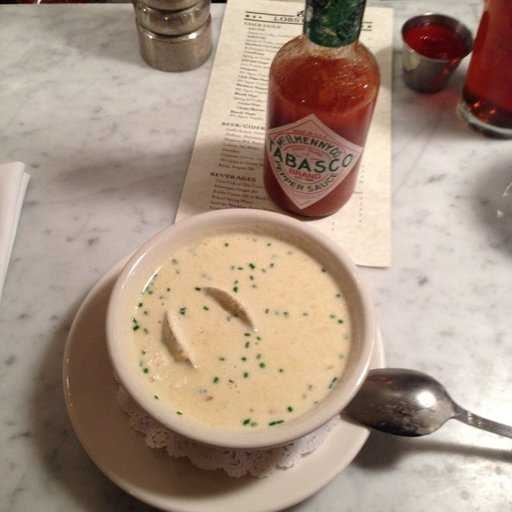soup: (122, 221, 358, 439)
